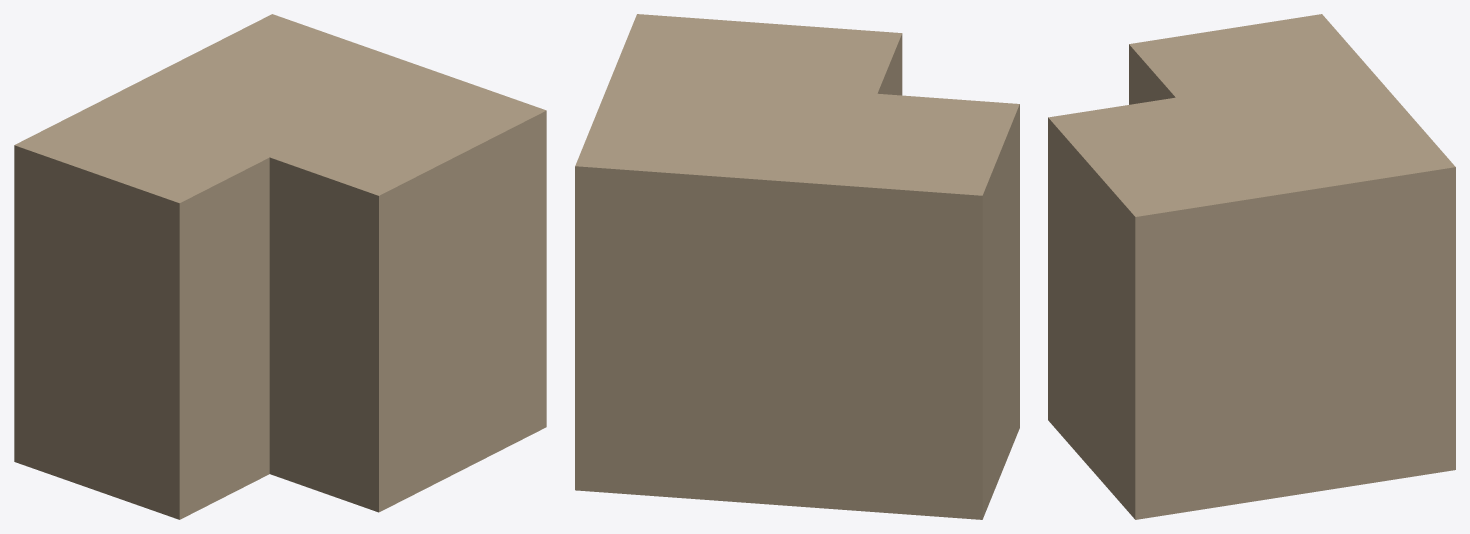
Rendered from bld_106796584.dae.
3 renders of one model, left to right at view 1: azimuth 30°, elevation 25°; view 2: azimuth 150°, elevation 25°; view 3: azimuth 270°, elevation 25°, orthographic. The views are drawn at different scales.
Visible parts, largest first — view 1: bld_106796584; view 2: bld_106796584; view 3: bld_106796584.
Part boxes in pixels (x1,y1,x2,y2): bld_106796584: [14, 14, 546, 519]; bld_106796584: [575, 14, 1019, 519]; bld_106796584: [1048, 14, 1455, 519].
Size of the model in its own units: 11.5 by 9.76 by 8.
